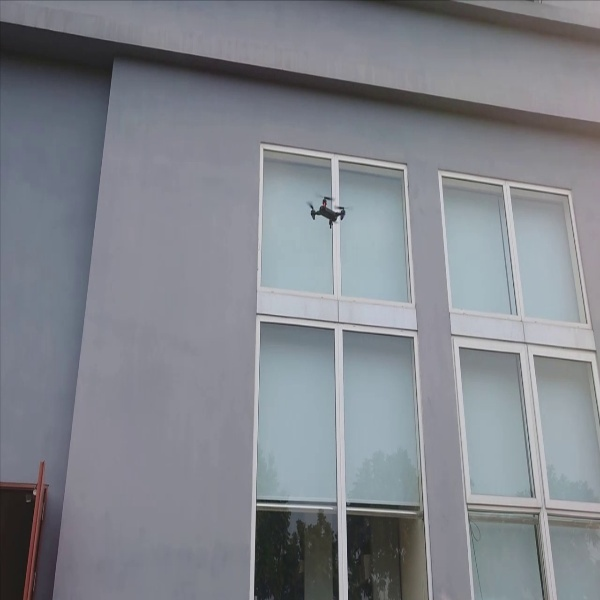drone: (298, 188, 358, 237)
